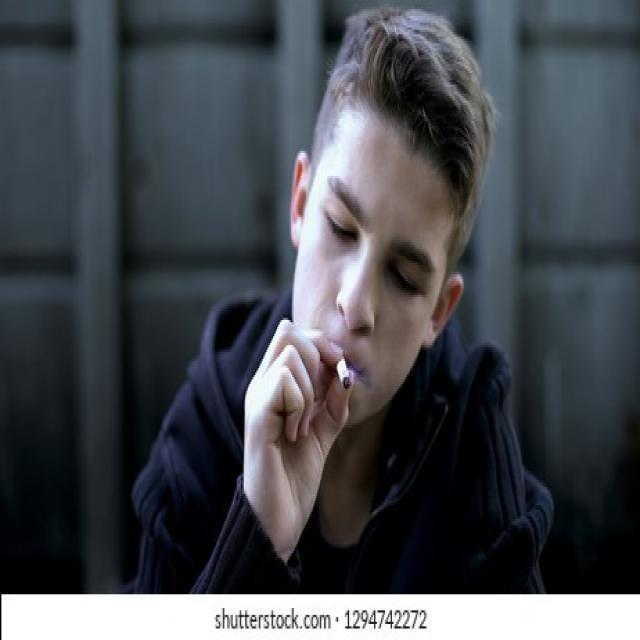smoking: (308, 339, 382, 397)
